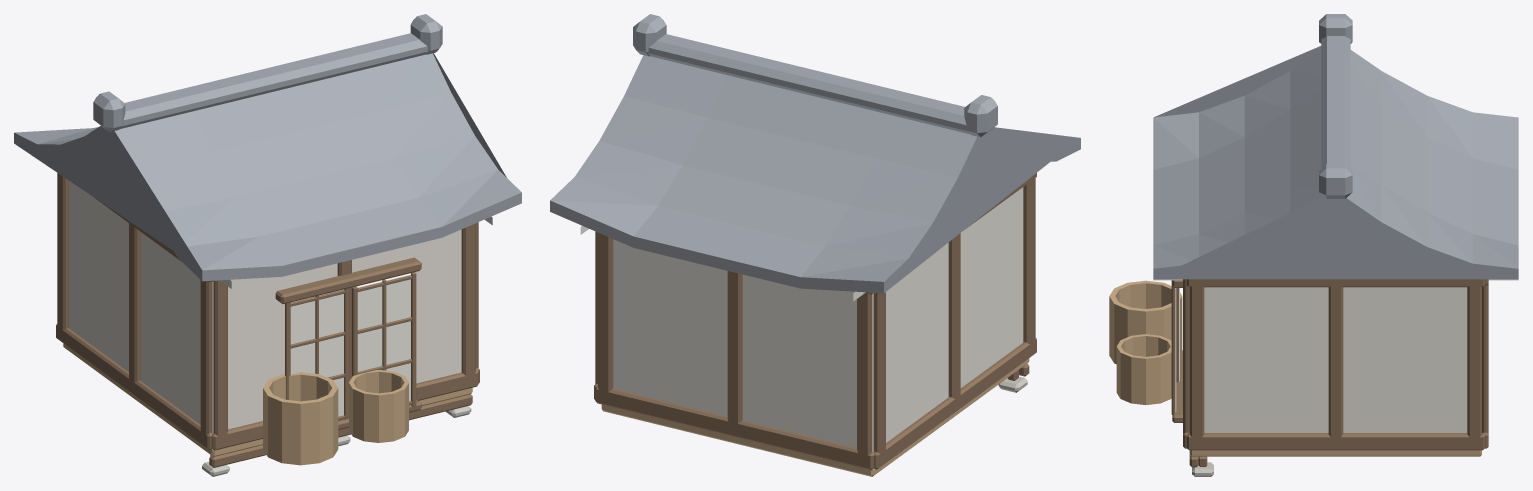
File: feudal-japan-castle-town-cooper-shop-5ab4e8f6__26255.glb
3 renders of one model, left to right at view 1: azimuth 30°, elevation 25°; view 2: azimuth 150°, elevation 25°; view 3: azimuth 270°, elevation 25°, orthographic. The views are drawn at different scales.
Parts seen in each view (by area): view 1: cooper-shop; view 2: cooper-shop; view 3: cooper-shop.
Part boxes in pixels (x1,y1,x2,y2): cooper-shop: (14, 14, 521, 476); cooper-shop: (550, 14, 1080, 476); cooper-shop: (1109, 14, 1518, 476).
Size of the model in its own units: 5.2 by 4.91 by 5.6.
